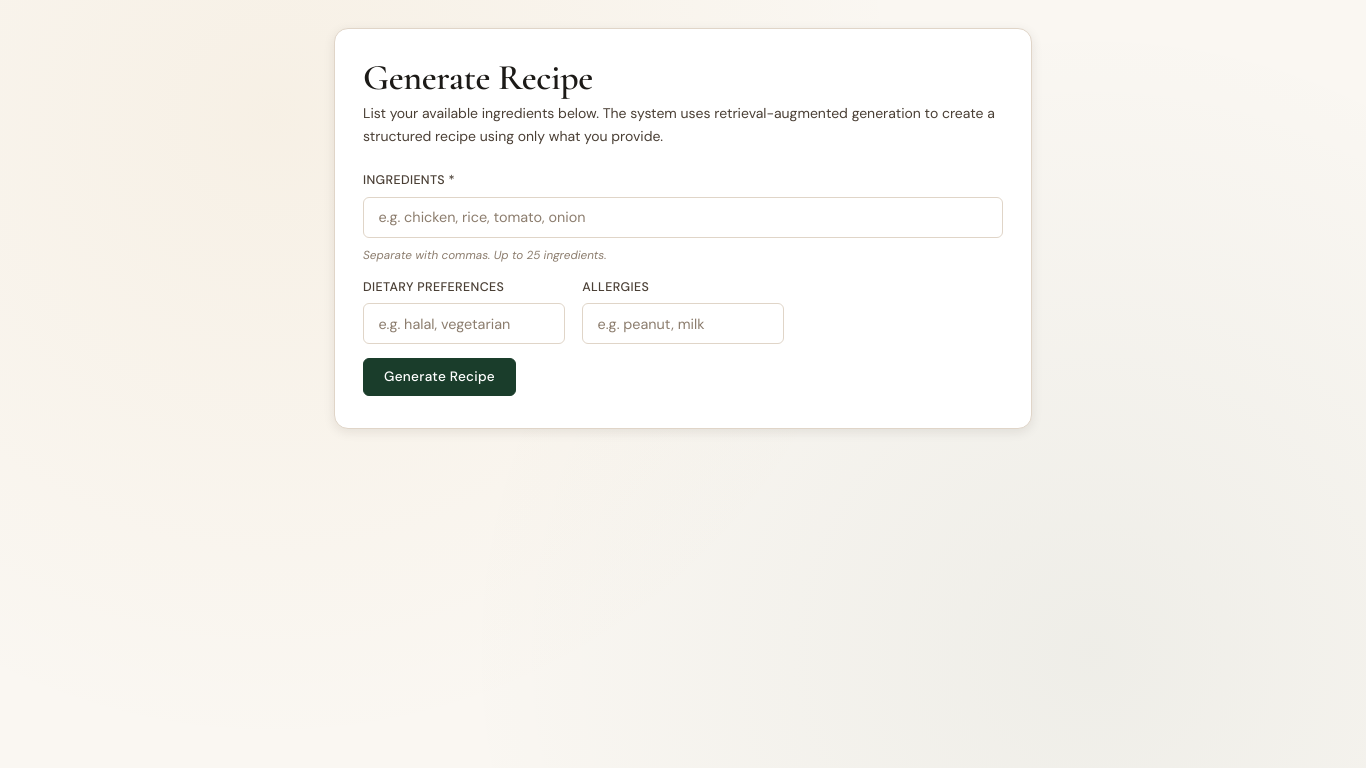
GenerateRecipePage › shows a validation error when no ingredients are provided
The image size is (1366, 768).
Click the button "Generate Recipe": [440, 377] box [363,358,516,396]
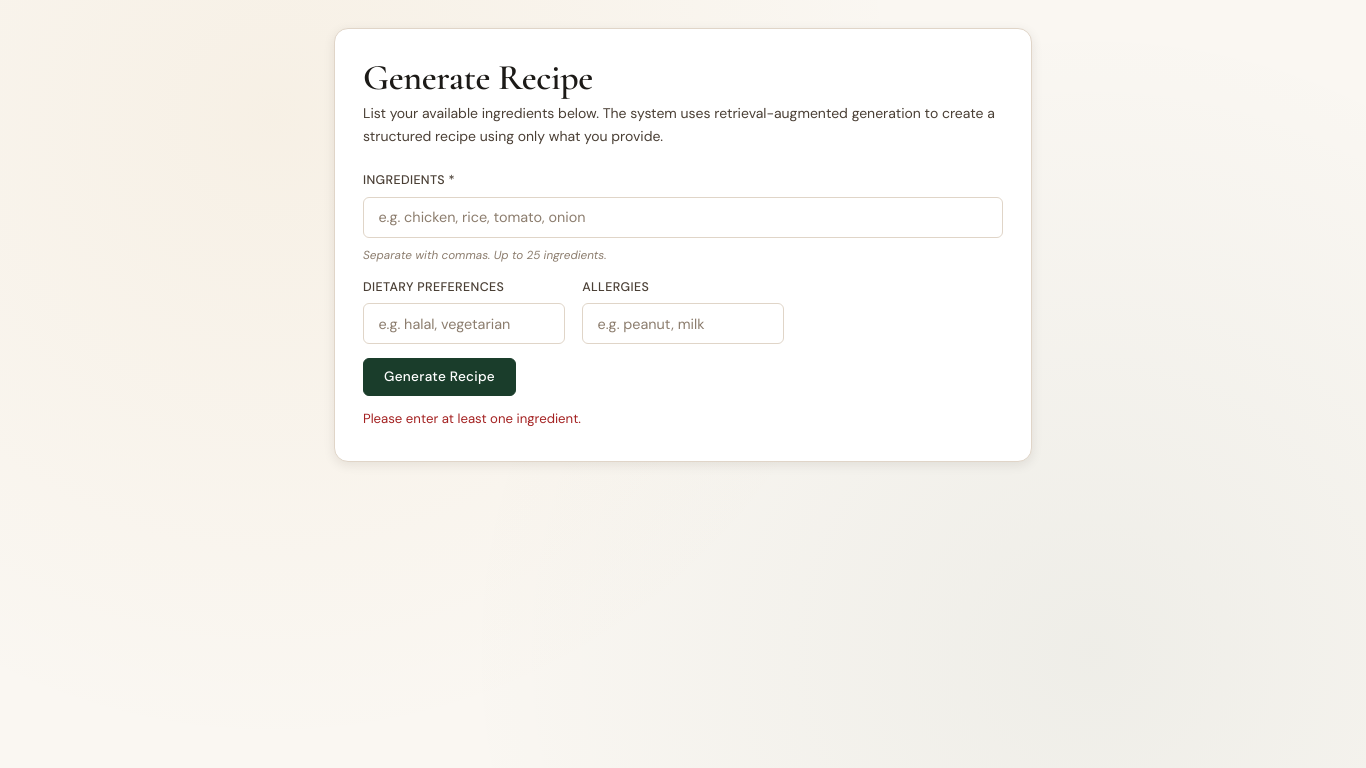
Expected: the text "Please enter at least one ingredient." is shown, [363,410,581,427]
